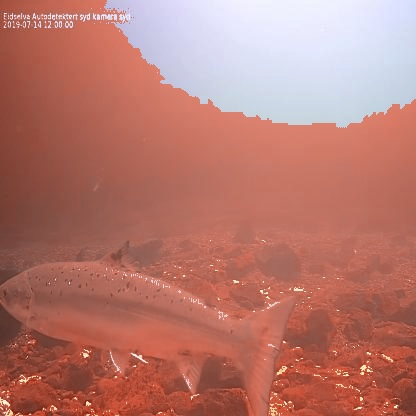salmon: (0, 238, 306, 416)
